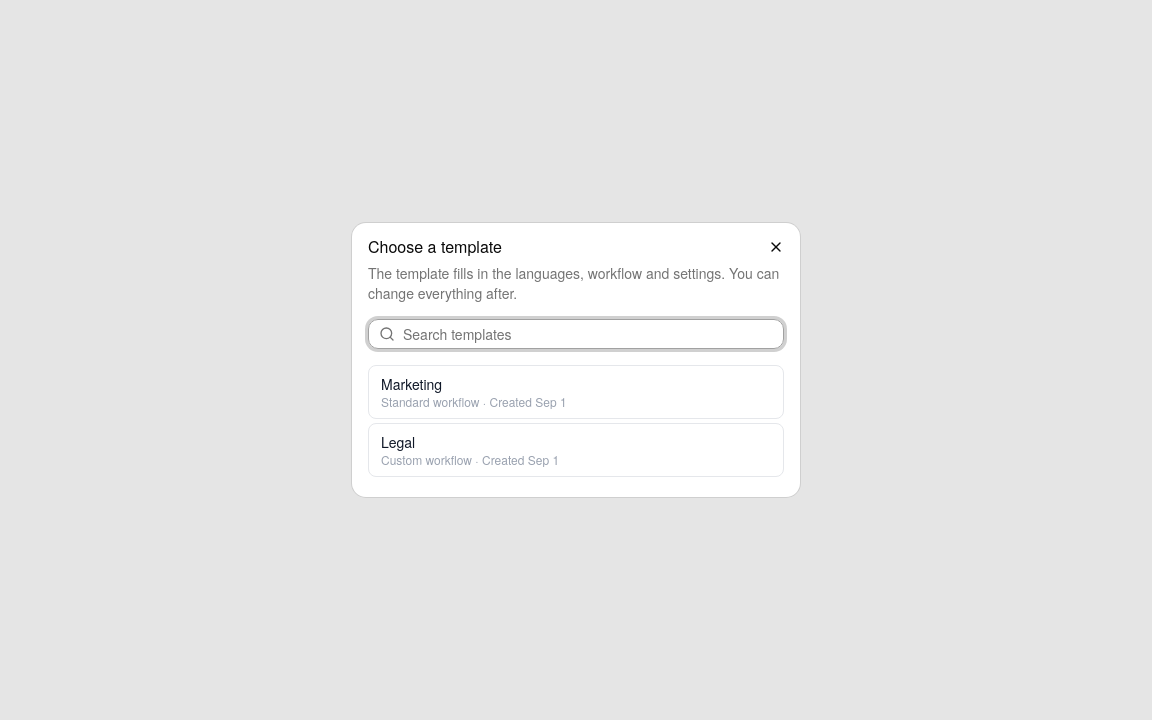
Test case: TemplatePickerDialog › searches on the server and says so when nothing matches
This screenshot has width=1152, height=720.
Expected: the button with test id "template-option-1" is shown, x1=368 y1=365 x2=784 y2=419
Type "legal" into the field with test id "template-picker-search".
click(588, 334); type("legal")  # box x1=403 y1=320 x2=773 y2=348
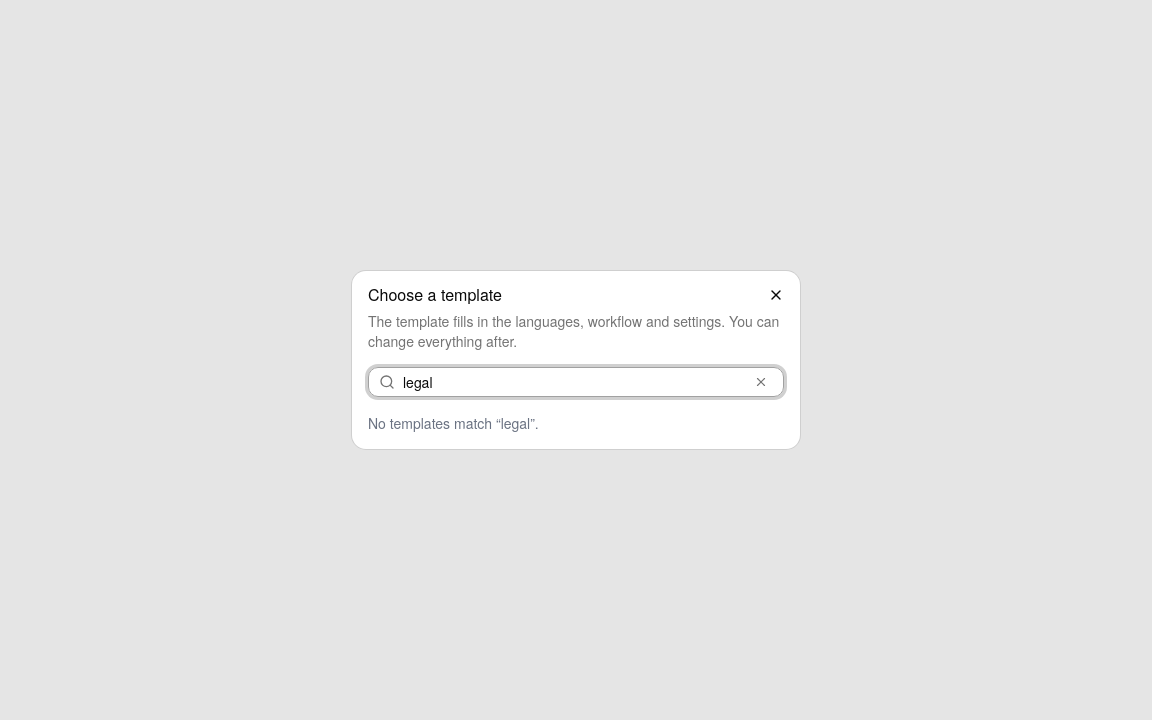
Expected: the text with test id "template-picker-empty" shows "No templates match “legal”", x1=368 y1=413 x2=539 y2=433
